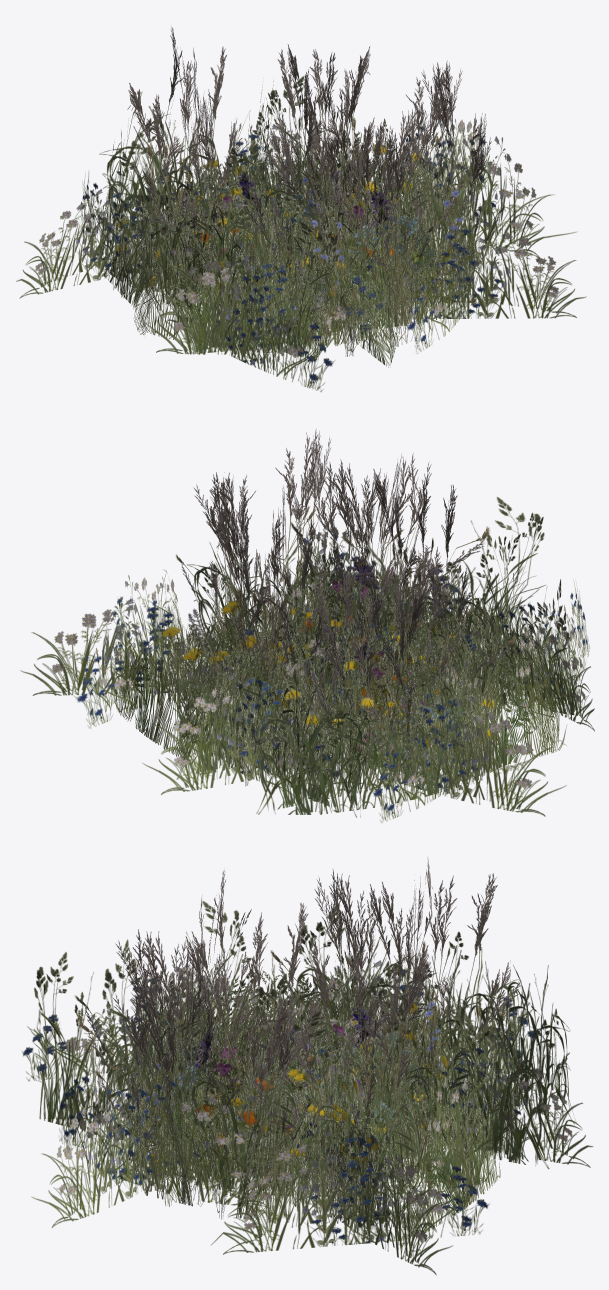
Rendered from clumps.glb.
The picture shows the model from 3 angles, top to bottom: view 1: azimuth 30°, elevation 25°; view 2: azimuth 150°, elevation 25°; view 3: azimuth 270°, elevation 25°; orthographic projection. The views are drawn at different scales.
Parts seen in each view (by area): view 1: grass01-0, flowers02-0, flowers02-1, reeds-0, reeds-1, grass01-1, grass03-0, grass03-1, grass02-0, flowers01-0, flowers01-1, grass02-1 (+4 smaller); view 2: grass01-0, flowers02-0, grass01-1, flowers02-1, reeds-0, reeds-1, grass03-0, grass03-1, flowers03-0, flowers03-1, grass02-0, grass02-1 (+4 smaller); view 3: grass01-0, flowers02-0, grass01-1, flowers02-1, reeds-0, reeds-1, grass03-0, grass02-0, grass03-1, flowers01-0, grass02-1, flowers01-1 (+4 smaller).
Part boxes in pixels (x1,y1,x2,y2): grass01-0: (100,76,499,365); flowers02-0: (16,110,585,391); flowers02-1: (20,115,576,391); reeds-0: (127,27,504,320); reeds-1: (129,27,486,322); grass01-1: (99,81,498,367); grass03-0: (133,132,457,349); grass03-1: (133,131,456,347); grass02-0: (167,148,495,349); flowers01-0: (174,152,487,334); flowers01-1: (171,161,483,335); grass02-1: (176,164,495,331); grass01-0: (170,497,579,817); flowers02-0: (20,527,594,822); grass01-1: (170,512,581,817); flowers02-1: (33,522,594,822); reeds-0: (175,431,516,772); reeds-1: (204,429,473,774); grass03-0: (113,580,565,788); grass03-1: (114,576,565,787); flowers03-0: (158,600,495,771); flowers03-1: (158,604,493,778); grass02-0: (208,560,554,770); grass02-1: (228,569,555,762); grass01-0: (34,901,575,1219); flowers02-0: (22,938,593,1274); grass01-1: (34,909,574,1218); flowers02-1: (26,948,590,1273); reeds-0: (75,857,521,1223); reeds-1: (78,863,505,1219); grass03-0: (120,971,500,1233); grass02-0: (124,987,480,1216); grass03-1: (121,974,499,1236); flowers01-0: (144,1000,463,1192); grass02-1: (125,989,478,1211); flowers01-1: (145,995,461,1194).
Bounding box in the file's own units: 5.21 × 2.1 × 4.54.
Materials: 2 (2 with a texture image).
